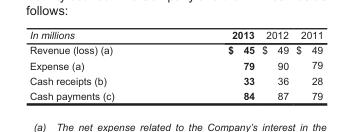table: (28, 29, 322, 100)
table column: (28, 29, 170, 100), (170, 29, 257, 100), (257, 29, 291, 100), (291, 29, 322, 100)
table column header: (28, 29, 322, 42)
table row: (28, 42, 322, 57), (28, 57, 322, 72), (28, 72, 322, 87), (28, 29, 322, 42), (28, 87, 322, 100)
